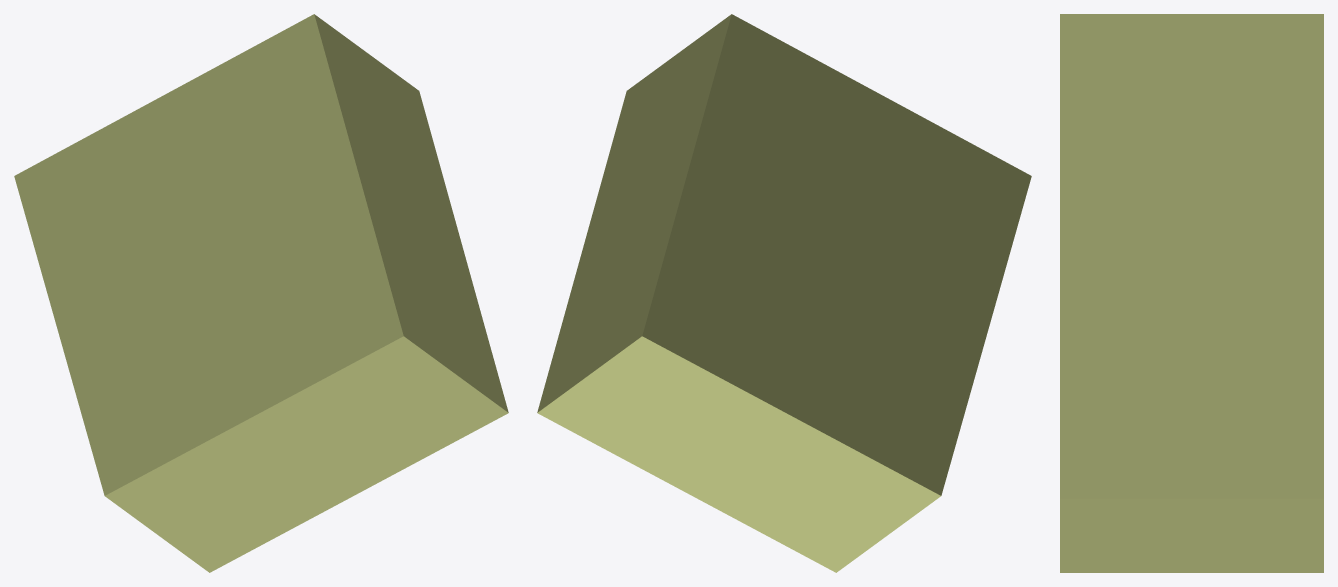
3 views of the same model, side by side, from view 1: azimuth 30°, elevation 25°; view 2: azimuth 150°, elevation 25°; view 3: azimuth 270°, elevation 25° (orthographic). The views are drawn at different scales.
Parts seen in each view (by area): view 1: 0_1_3_2_2_2_2_1_0_3; view 2: 0_1_3_2_2_2_2_1_0_3; view 3: 0_1_3_2_2_2_2_1_0_3.
Part boxes in pixels (x1,y1,x2,y2): 0_1_3_2_2_2_2_1_0_3: (14, 14, 508, 572); 0_1_3_2_2_2_2_1_0_3: (537, 14, 1031, 572); 0_1_3_2_2_2_2_1_0_3: (1060, 14, 1323, 572).
Size of the model in its own units: 12.85 by 13.58 by 6.
